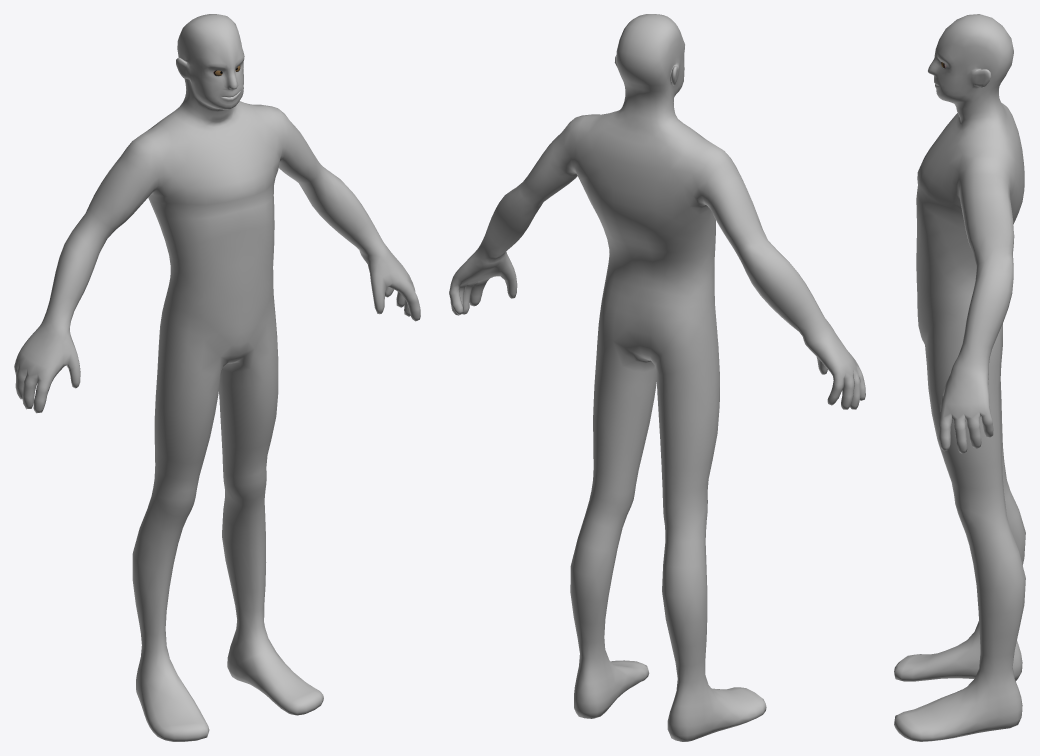
File: body.fbx
The picture shows the model from 3 angles, left to right: view 1: azimuth 30°, elevation 25°; view 2: azimuth 150°, elevation 25°; view 3: azimuth 270°, elevation 25°; orthographic projection. The views are drawn at different scales.
Parts seen in each view (by area): view 1: Low_Poly_Characte_000_Mesh_001; view 2: Low_Poly_Characte_000_Mesh_001; view 3: Low_Poly_Characte_000_Mesh_001.
Boxes of the visible parts, <box> form: Low_Poly_Characte_000_Mesh_001: <box>14,14,420,741</box>; Low_Poly_Characte_000_Mesh_001: <box>449,14,865,741</box>; Low_Poly_Characte_000_Mesh_001: <box>894,14,1025,741</box>.
Size of the model in its own units: 186 by 310 by 54.07.
